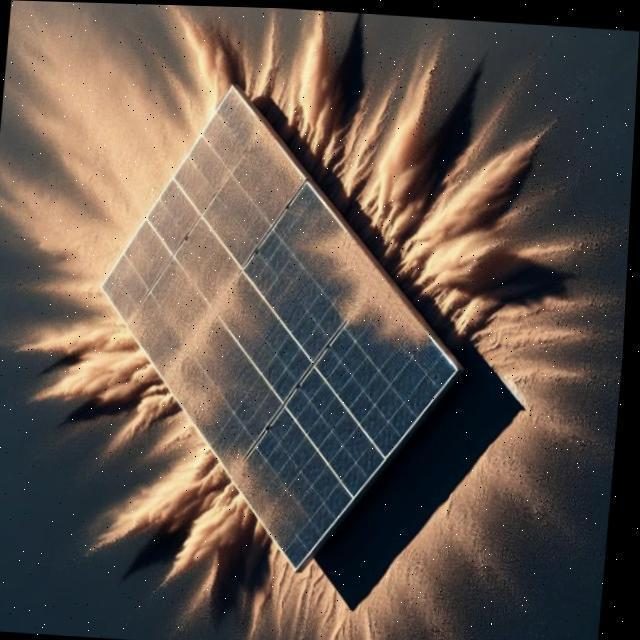Anomaly Solar Panel: (40, 84, 493, 566)
Surface Contaminant: (64, 83, 385, 444), (275, 203, 429, 375), (219, 432, 315, 544)
